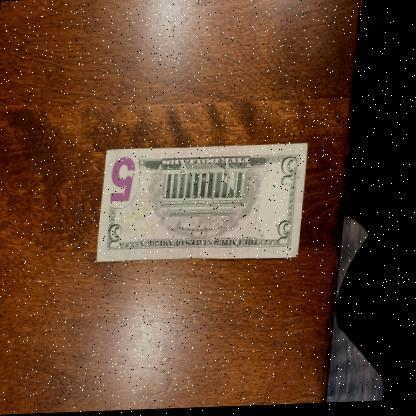five-back: (99, 143, 310, 266)
